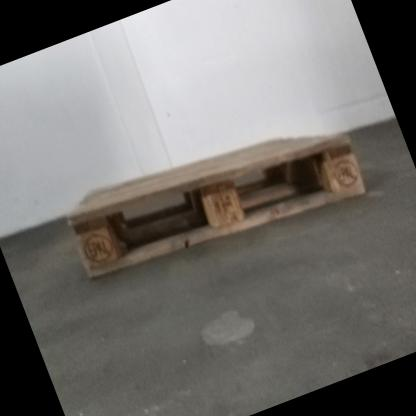BoxFace: (60, 129, 371, 287)
